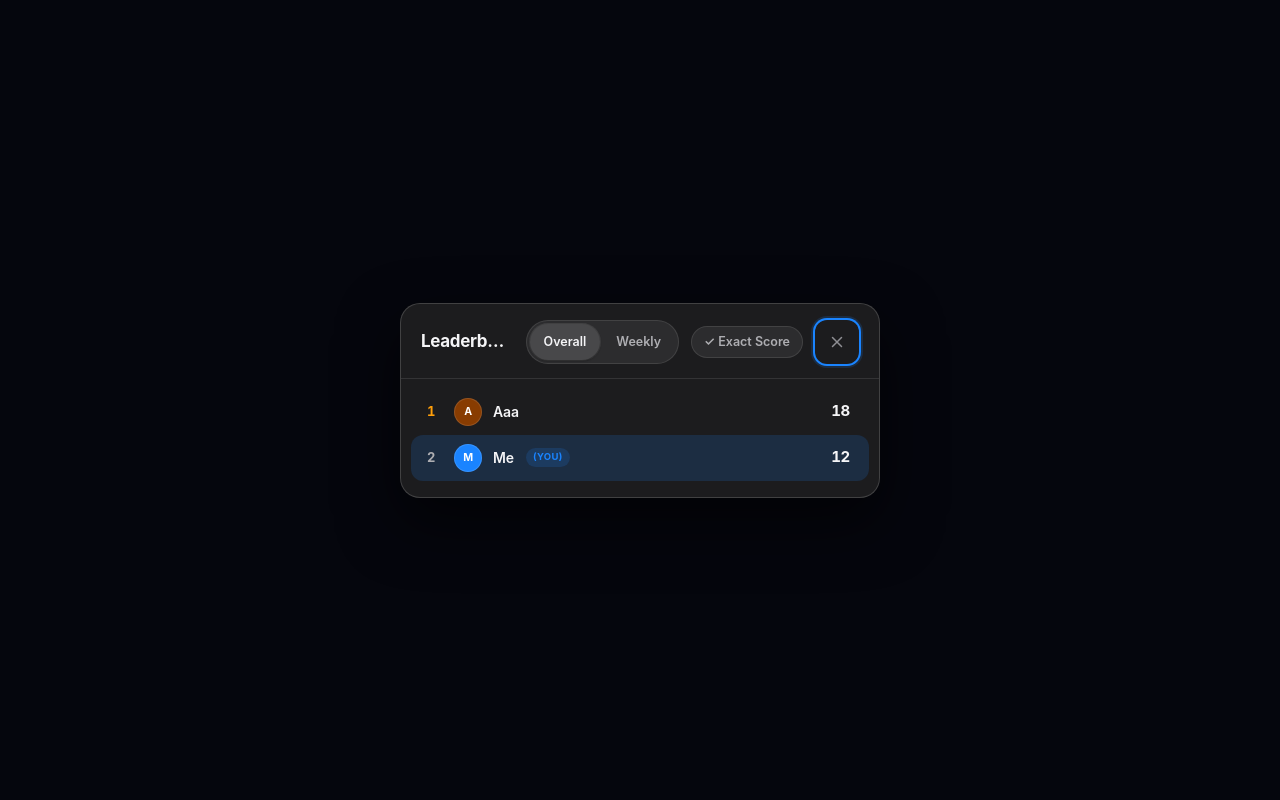
Scenario: LeaderboardModal — Exact filter › hides exact picks until the Exact toggle is on, then shows each player's count
Expected: the text named "18 points" is shown, [831,401,850,420]
What coordinates should you click on to do the following:
click the button "✓ Exact Score"
I would click on:
 (747, 342)
Its box is [691,326,803,358].
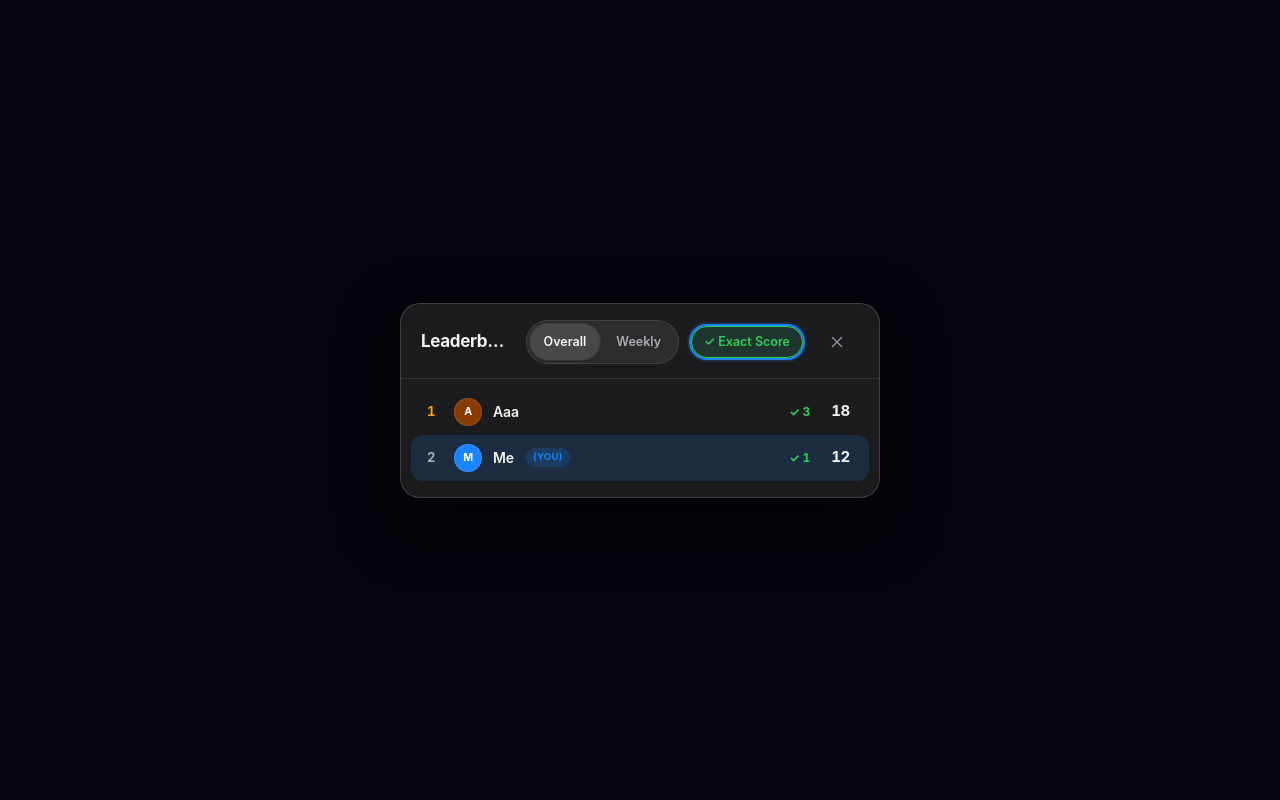
Expected: the text named "18 points" is shown, [831,401,850,420]
Now the text named "3 exact picks" is shown, box [789,402,810,420]
Now the text named "1 exact picks" is shown, box [789,448,810,466]
